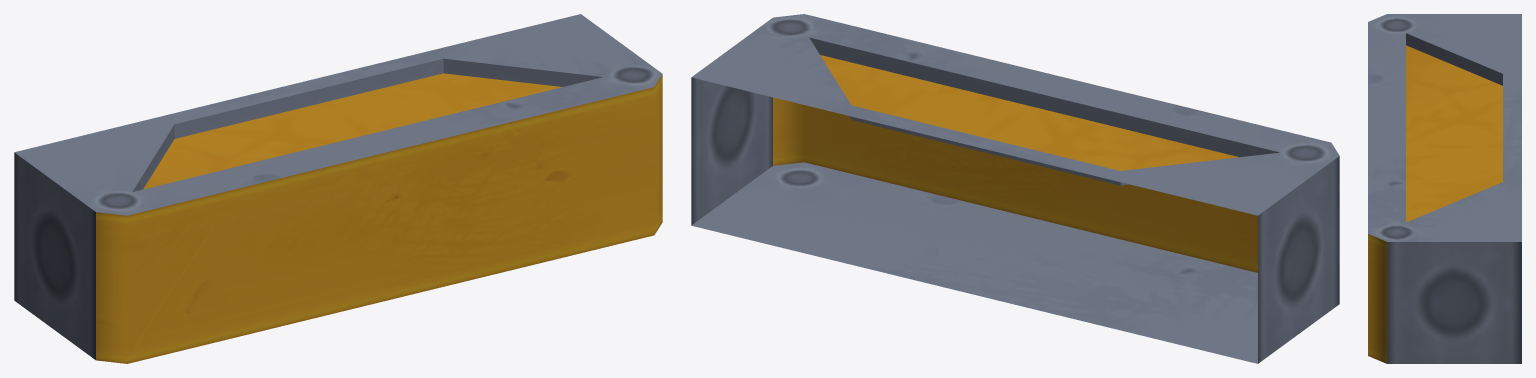
File: obj_spaceship_wall11.fbx
The picture shows the model from 3 angles, left to right: view 1: azimuth 30°, elevation 25°; view 2: azimuth 150°, elevation 25°; view 3: azimuth 270°, elevation 25°; orthographic projection. The views are drawn at different scales.
Visible parts, largest first — view 1: pCube112; view 2: pCube112; view 3: pCube112.
Boxes of the visible parts, x1,y1,x2,y2 form: pCube112: (14, 14, 662, 363); pCube112: (691, 14, 1339, 363); pCube112: (1368, 14, 1521, 363).
Size of the model in its own units: 4 by 1 by 1.14.
